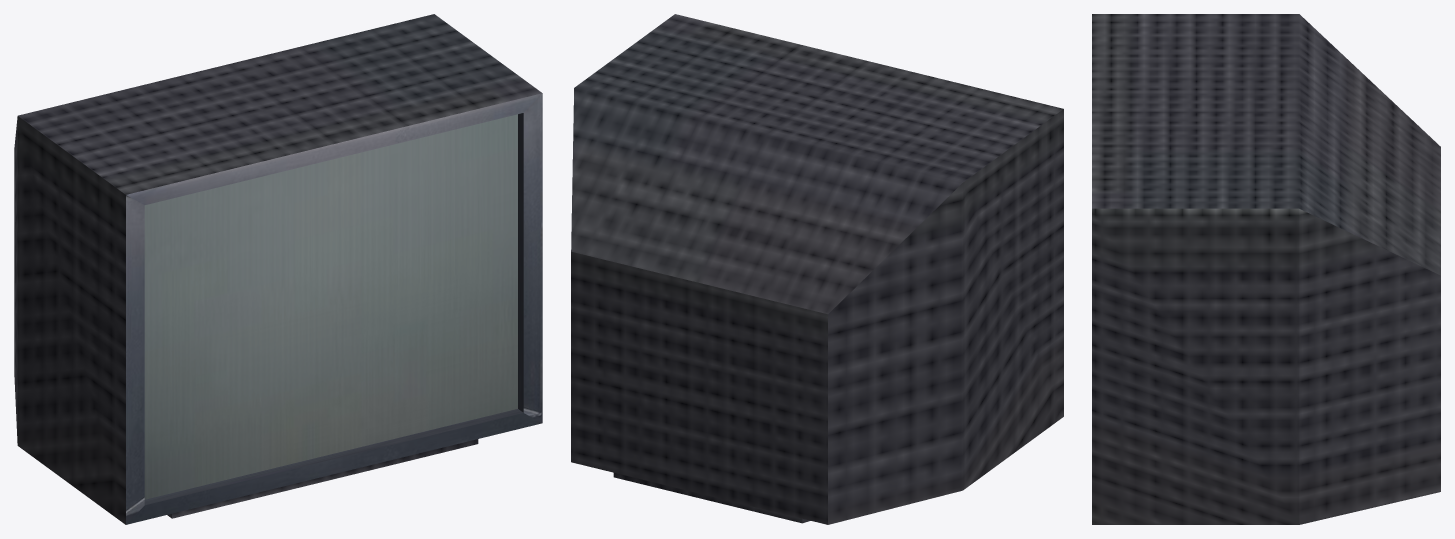
Rendered from tele.fbx.
3 views of the same model, side by side, from view 1: azimuth 30°, elevation 25°; view 2: azimuth 150°, elevation 25°; view 3: azimuth 270°, elevation 25° (orthographic). The views are drawn at different scales.
Parts seen in each view (by area): view 1: TV; view 2: TV; view 3: TV.
Boxes of the visible parts, x1=… form: TV: x1=14, y1=14, x2=542, y2=524; TV: x1=571, y1=14, x2=1063, y2=524; TV: x1=1092, y1=14, x2=1440, y2=524.
Bounding box in the file's own units: 264 × 208 × 200.
